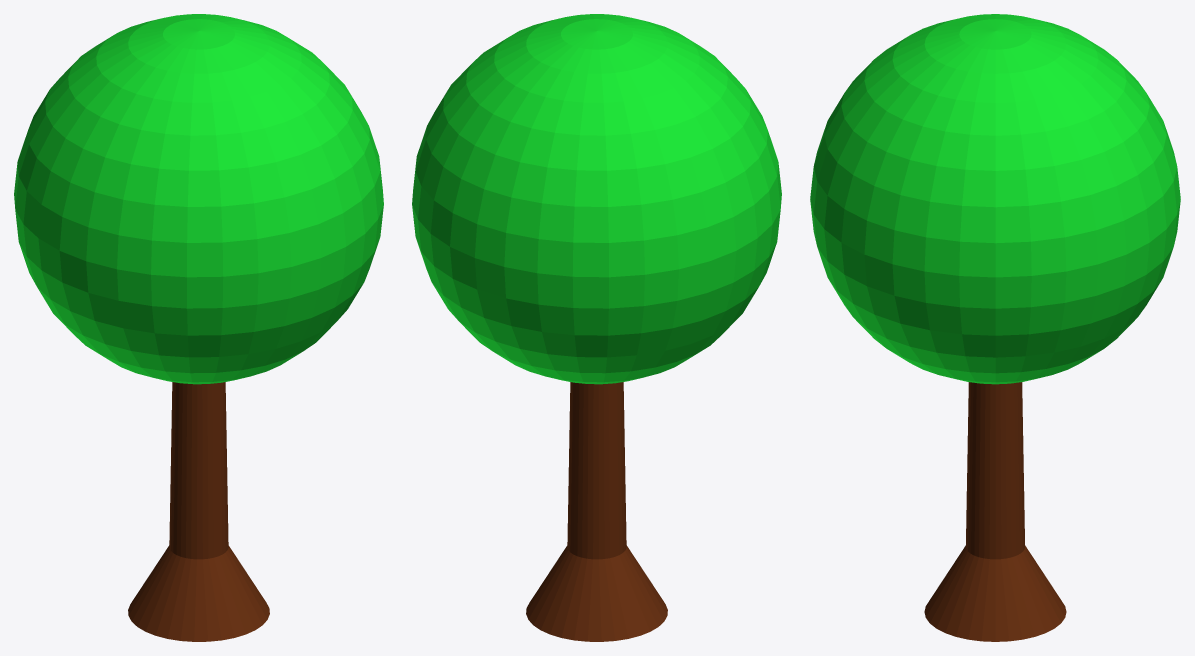
Rendered from tree1.glb.
3 views of the same model, side by side, from view 1: azimuth 30°, elevation 25°; view 2: azimuth 150°, elevation 25°; view 3: azimuth 270°, elevation 25° (orthographic).
Parts seen in each view (by area): view 1: stamm, Leafs; view 2: stamm, Leafs; view 3: stamm, Leafs.
Boxes of the visible parts, x1,y1,x2,y2 form: stamm: [14, 14, 383, 384]; Leafs: [128, 382, 269, 641]; stamm: [412, 14, 781, 384]; Leafs: [526, 382, 667, 641]; stamm: [810, 14, 1180, 384]; Leafs: [924, 382, 1066, 641].
Size of the model in its own units: 3.46 by 5.98 by 3.46.
